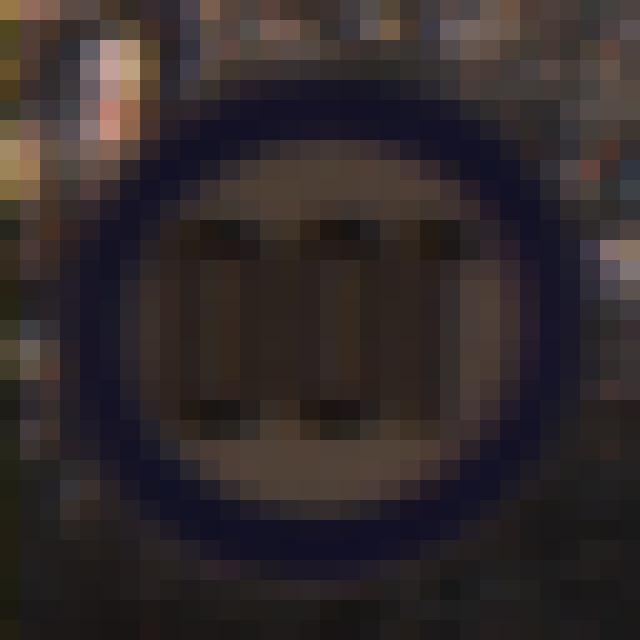SPEED LIMIT 100: (59, 97, 573, 546)
